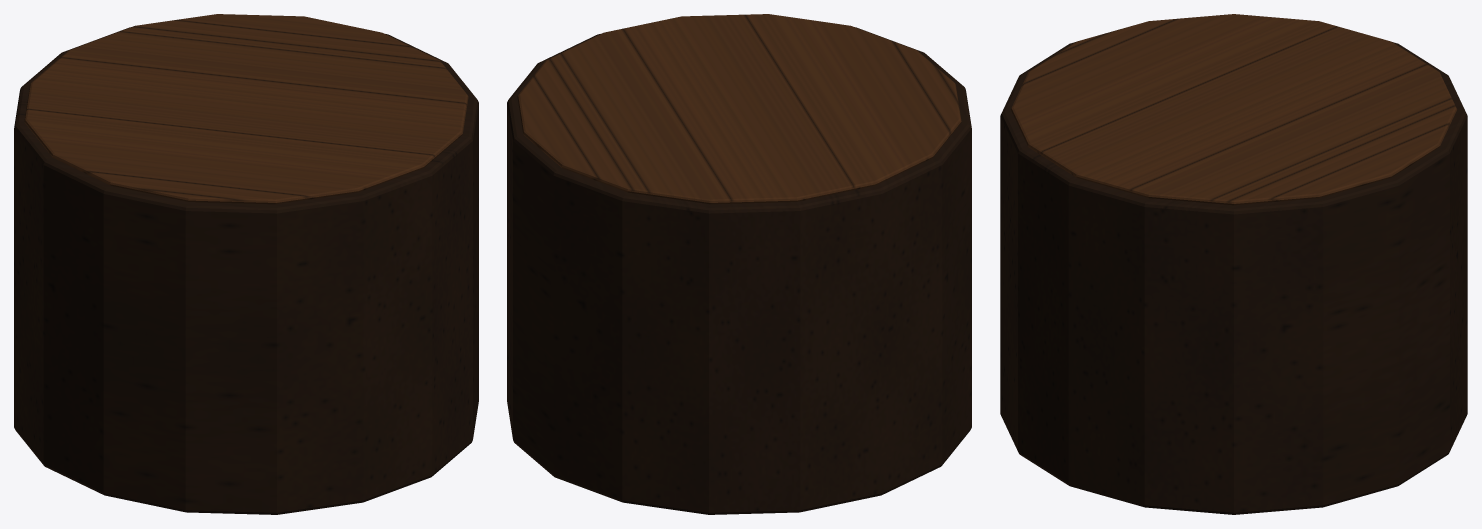
The model's file is PROP-C06900B3BF02_lod0.glb.
3 views of the same model, side by side, from view 1: azimuth 30°, elevation 25°; view 2: azimuth 150°, elevation 25°; view 3: azimuth 270°, elevation 25° (orthographic).
Parts seen in each view (by area): view 1: stump, cut_growth_rings; view 2: stump, cut_growth_rings; view 3: stump, cut_growth_rings.
Part boxes in pixels (x1,y1,x2,y2): stump: [14, 27, 478, 514]; cut_growth_rings: [24, 14, 468, 204]; stump: [507, 27, 971, 514]; cut_growth_rings: [517, 14, 961, 204]; stump: [1000, 42, 1467, 514]; cut_growth_rings: [1011, 14, 1456, 205].
Size of the model in its own units: 0.9 by 0.66 by 0.9.
Materials: 2 (2 with a texture image).
